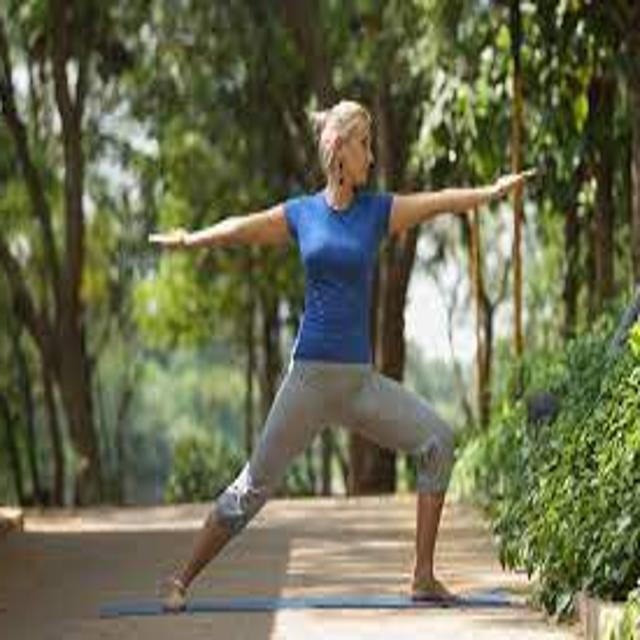Warrior_II: (140, 101, 531, 606)
